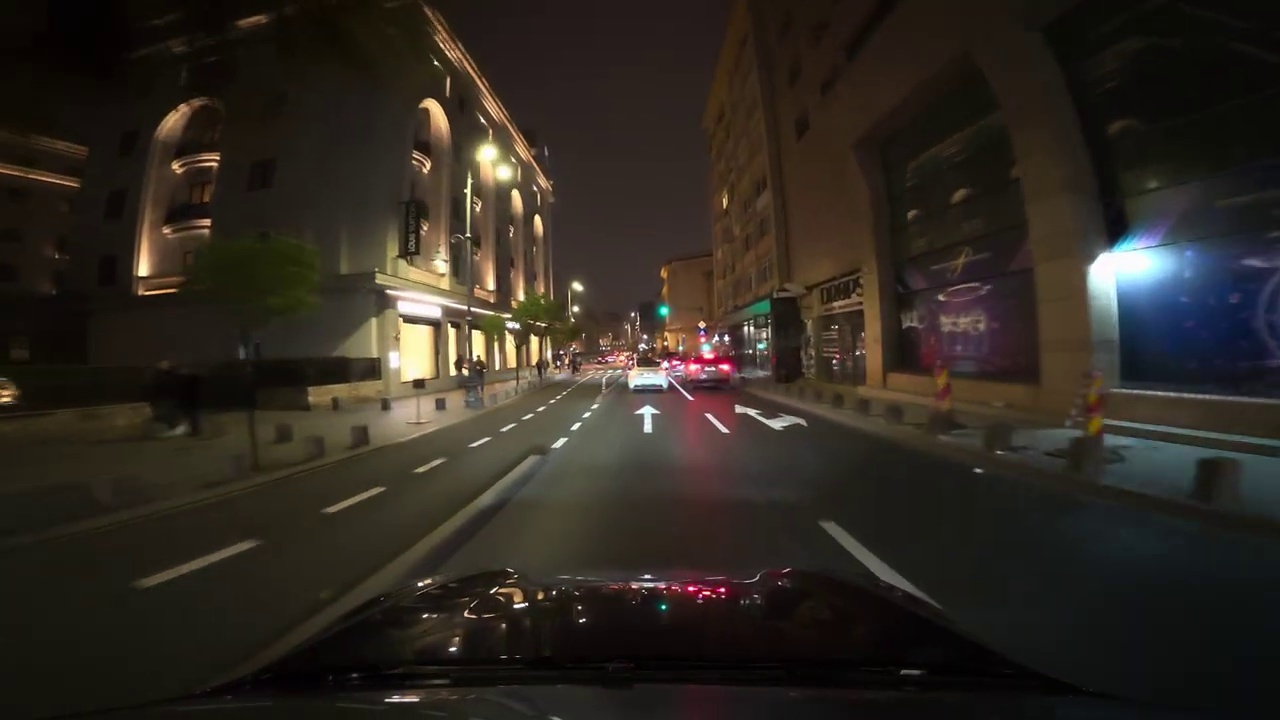acesa: (475, 145, 505, 179), (423, 102, 448, 133), (567, 279, 588, 298)
